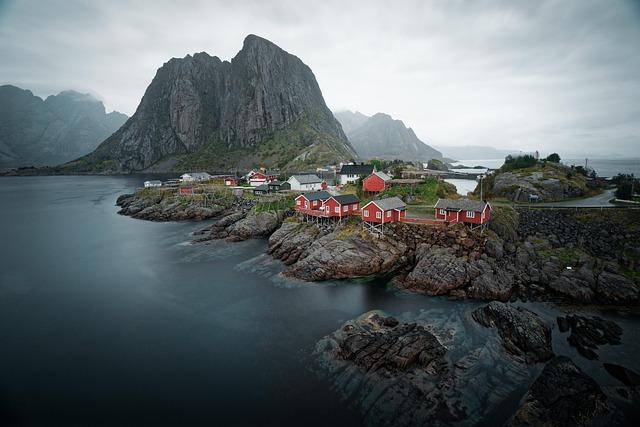Non_Gorille: (102, 57, 555, 305)
